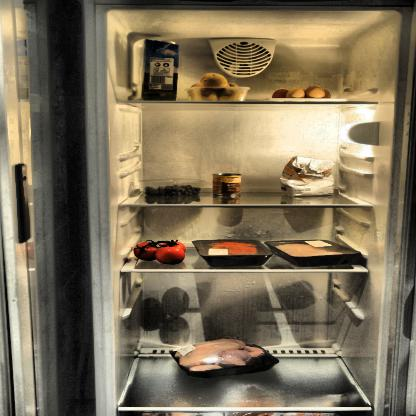beef: (206, 239, 262, 265)
blueberries: (144, 182, 202, 198)
chicken: (173, 335, 268, 378), (274, 240, 347, 268)
corn: (211, 172, 243, 198)
eggs: (270, 85, 334, 102)
milk: (144, 37, 180, 105)
potato: (186, 72, 248, 102)
tomato: (132, 236, 190, 266)
